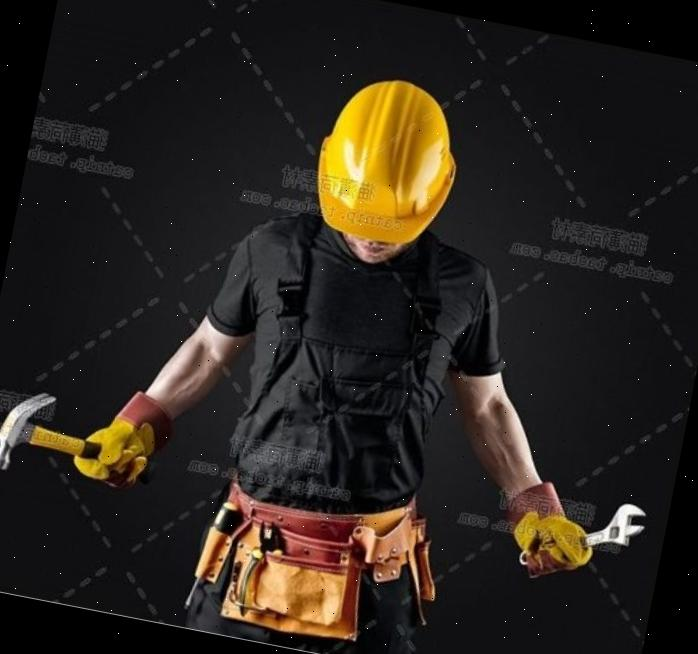helmet: (302, 66, 476, 267)
no_wear: (204, 224, 496, 524)
